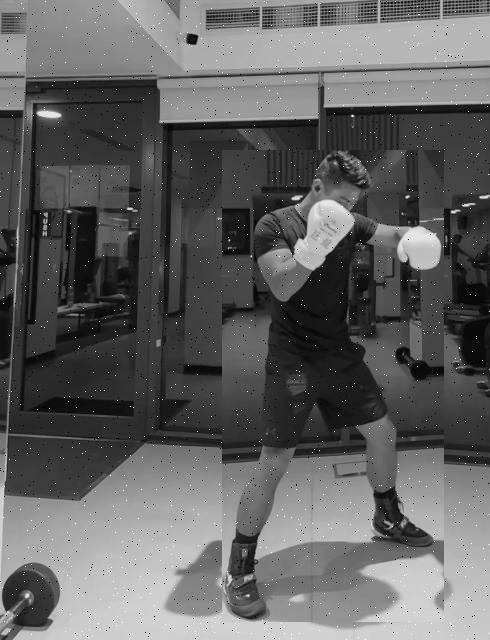punch: (222, 150, 444, 622)
